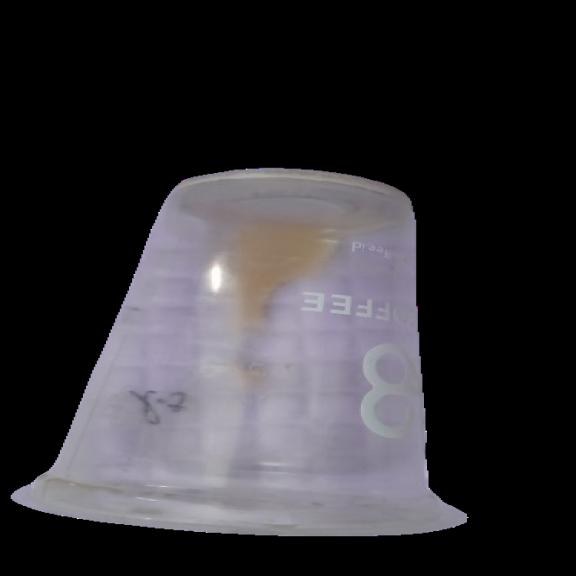Plastik: (2, 160, 482, 546)
